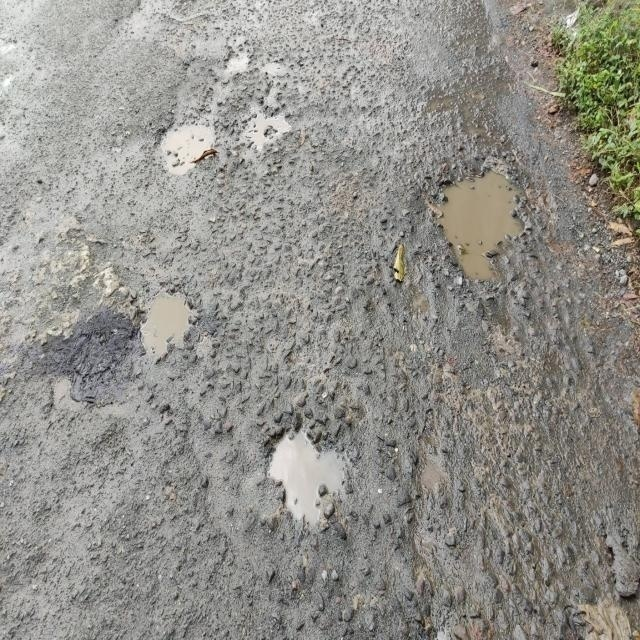pothole: (418, 142, 536, 304), (261, 406, 358, 548), (136, 264, 202, 379), (150, 107, 236, 188)
